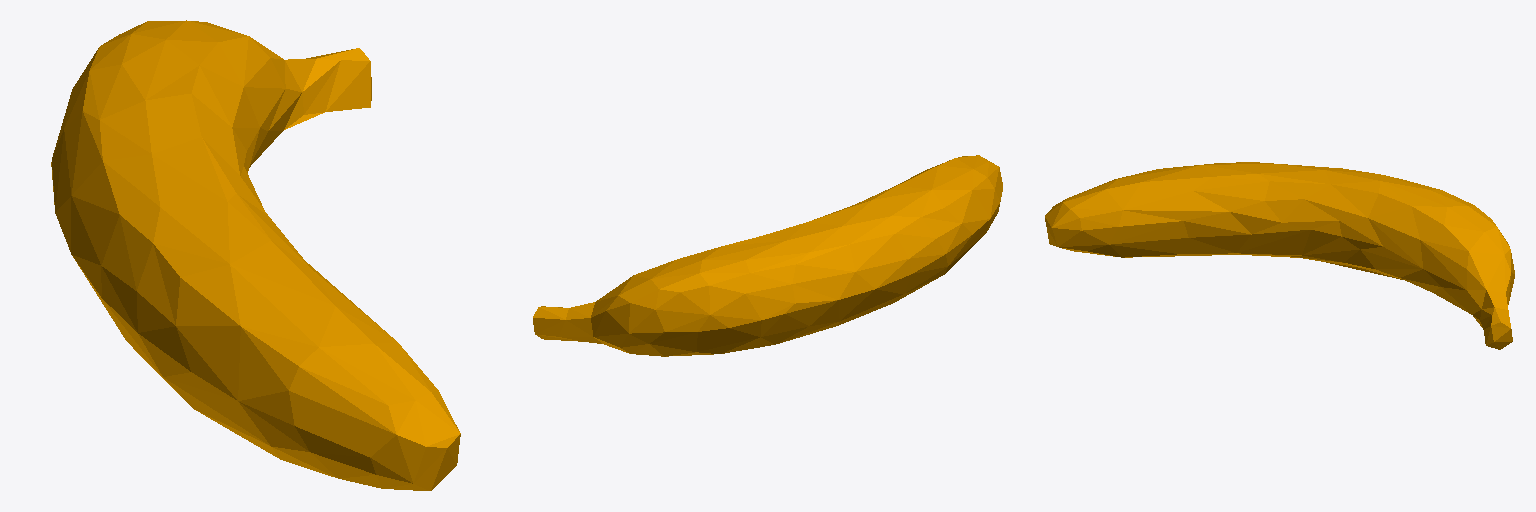
robot.urdf — 011_banana:
<?xml version="1.0" ?>
<robot name="011_banana">
  <link name="base_link">
    <inertial>
      <origin xyz="0. 0. 0." />
      <mass value="25.0" />
      <inertia ixx="0.001" ixy="0.0" ixz="0.0" iyy="0.001" iyz="0.0" izz="0.001" />
    </inertial>
    <visual name="011_banana">
      <origin xyz="0. 0. 0."/>
      <geometry>
        <mesh filename="shape/visual/011_banana.obj"/>
      </geometry>
    </visual>
<collision>
      <origin xyz="0. 0. 0."/>
      <geometry>
        <mesh filename="shape/collision/011_banana_cm.obj"/>
      </geometry>
    </collision>

  </link>
</robot>

--- Render facts (derived) ---
Views: 3 orthographic renders of the robot side by side, from view 1: azimuth 30°, elevation 25°; view 2: azimuth 150°, elevation 25°; view 3: azimuth 270°, elevation 25°.
Model 011_banana with 1 links and 0 joints (none), rooted at base_link, posed all joints at 0.
Links seen in each view (by area): view 1: base_link; view 2: base_link; view 3: base_link.
Link boxes in pixels (x1,y1,x2,y2): base_link: (51, 20, 460, 490); base_link: (533, 155, 1002, 356); base_link: (1045, 162, 1514, 349).
Size in the robot's own frame: 0.1089 by 0.1787 by 0.0369 metres.
1 mesh visuals loaded from 1 distinct referenced files (1 OBJ).